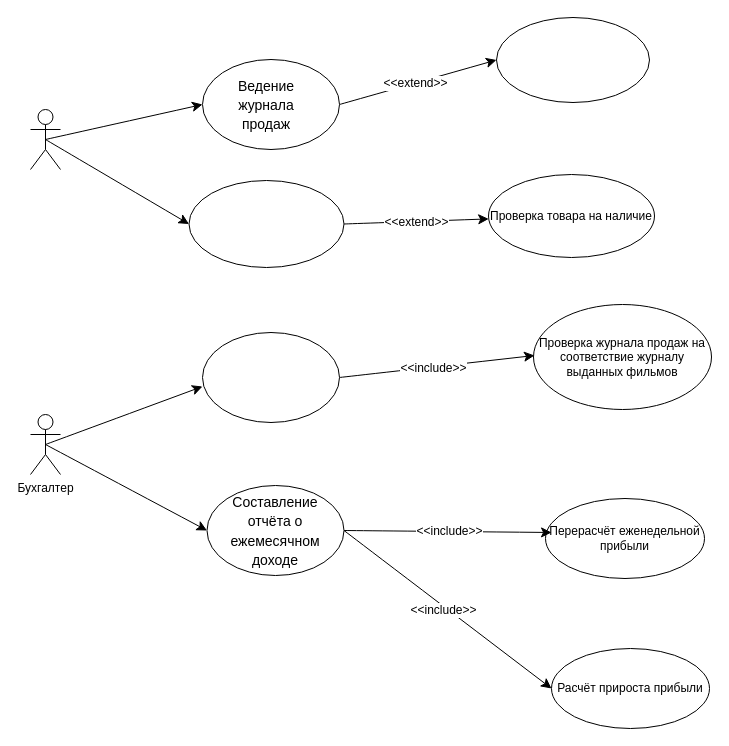
Some shapes in this 729 by 746 pixel diagram are drawn without their labels. The centre of each missing label's shape, as x and y in pixels:
"Ведение журнала выданных фильмов" belongs at [266,224].
"Вычисление ежемесячного дохода" belongs at [271,377].
"Запись информации о покупках" belongs at [573,59].
"Кассир" belongs at [45,139].
